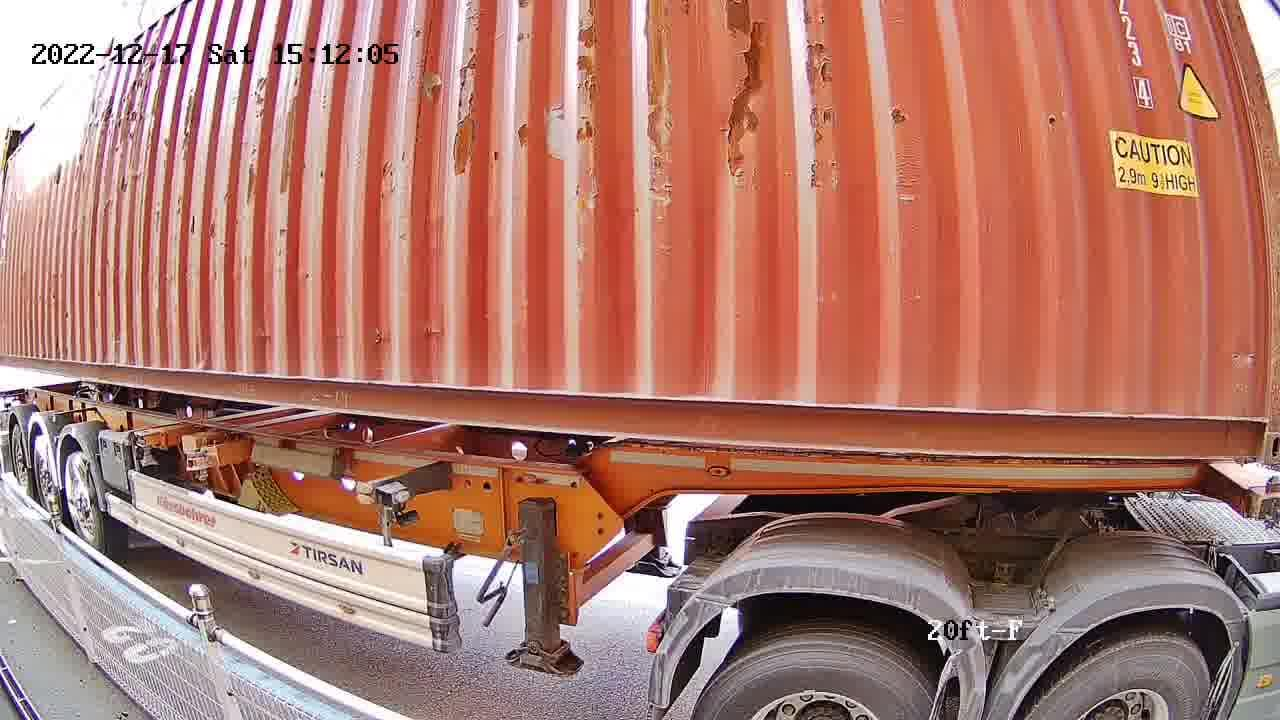Hole_R: (1222, 397, 1279, 462)
Tire: (697, 644, 943, 718), (1028, 637, 1214, 715)
